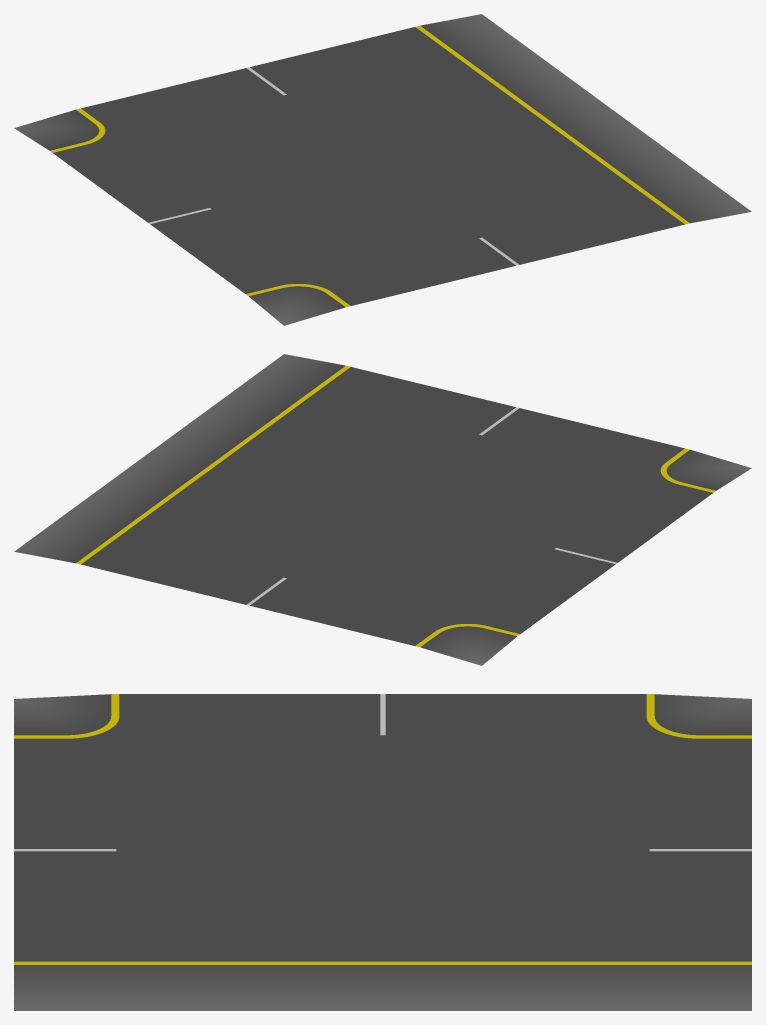
The model's file is Troad_1_ex.fbx.
3 views of the same model, one above another, from view 1: azimuth 30°, elevation 25°; view 2: azimuth 150°, elevation 25°; view 3: azimuth 270°, elevation 25° (orthographic). The views are drawn at different scales.
Visible parts, largest first — view 1: Troad_1_ex; view 2: Troad_1_ex; view 3: Troad_1_ex.
Part boxes in pixels (left/top/right/bottom): Troad_1_ex: left=14, top=14, right=751, bottom=325; Troad_1_ex: left=14, top=354, right=751, bottom=665; Troad_1_ex: left=14, top=694, right=751, bottom=1010.
Size of the model in its own units: 14 by 14 by 0.1.
